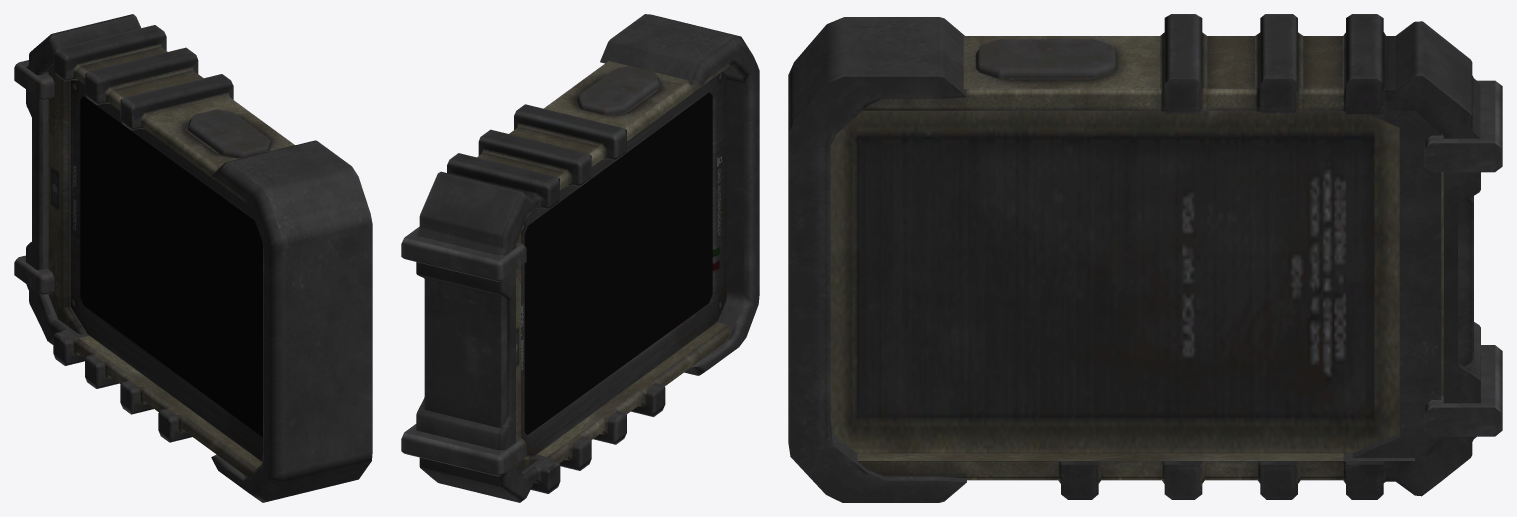
Rendered from t6_wpn_pda_view_LOD0.obj.
3 renders of one model, left to right at view 1: azimuth 30°, elevation 25°; view 2: azimuth 150°, elevation 25°; view 3: azimuth 270°, elevation 25°, orthographic. The views are drawn at different scales.
Parts seen in each view (by area): view 1: mtl_t6_wpn_pda, mtl_t6_wpn_pda_lens; view 2: mtl_t6_wpn_pda, mtl_t6_wpn_pda_lens; view 3: mtl_t6_wpn_pda.
Boxes of the visible parts, <box> form: mtl_t6_wpn_pda: <box>14,14,372,502</box>; mtl_t6_wpn_pda_lens: <box>80,96,262,436</box>; mtl_t6_wpn_pda: <box>401,14,759,502</box>; mtl_t6_wpn_pda_lens: <box>524,92,712,435</box>; mtl_t6_wpn_pda: <box>788,14,1502,502</box>.
Size of the model in its own units: 3.86 by 11.26 by 17.09.
